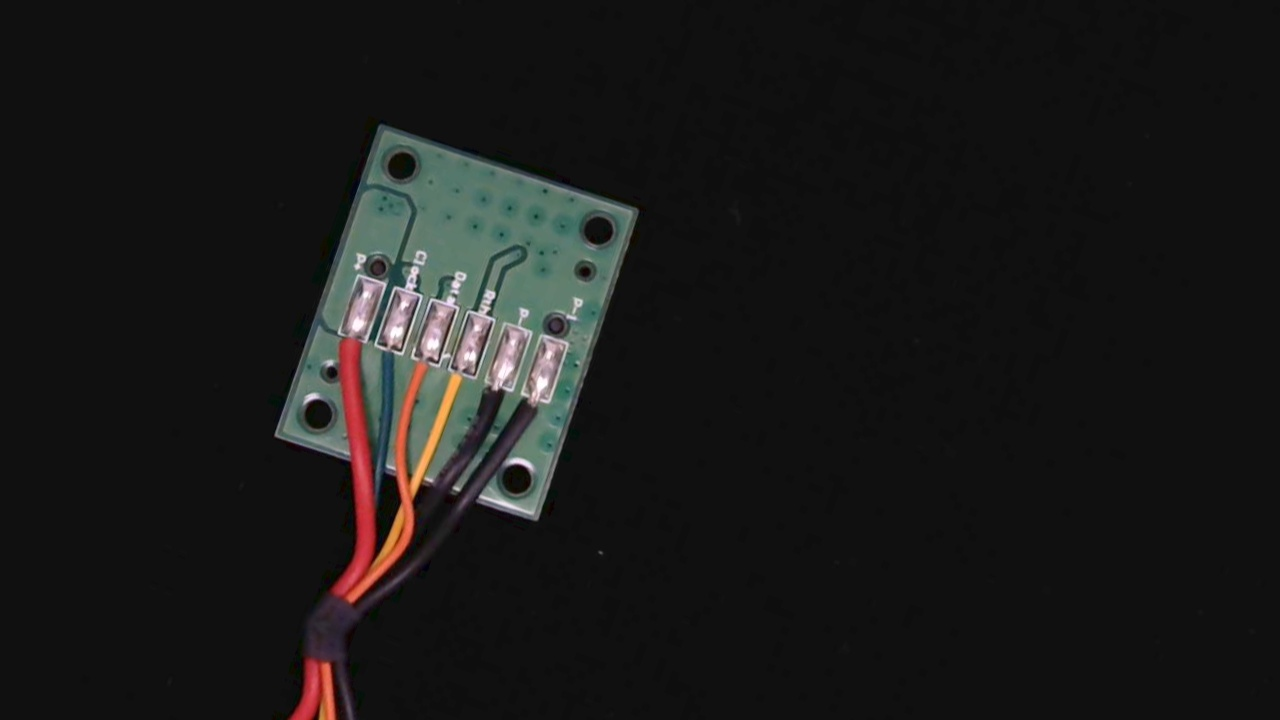Black: (466, 365, 517, 440)
Black1: (505, 380, 551, 444)
Green: (357, 327, 413, 404)
Orange: (393, 339, 448, 418)
Red: (319, 316, 375, 394)
Yellow: (430, 352, 481, 427)
